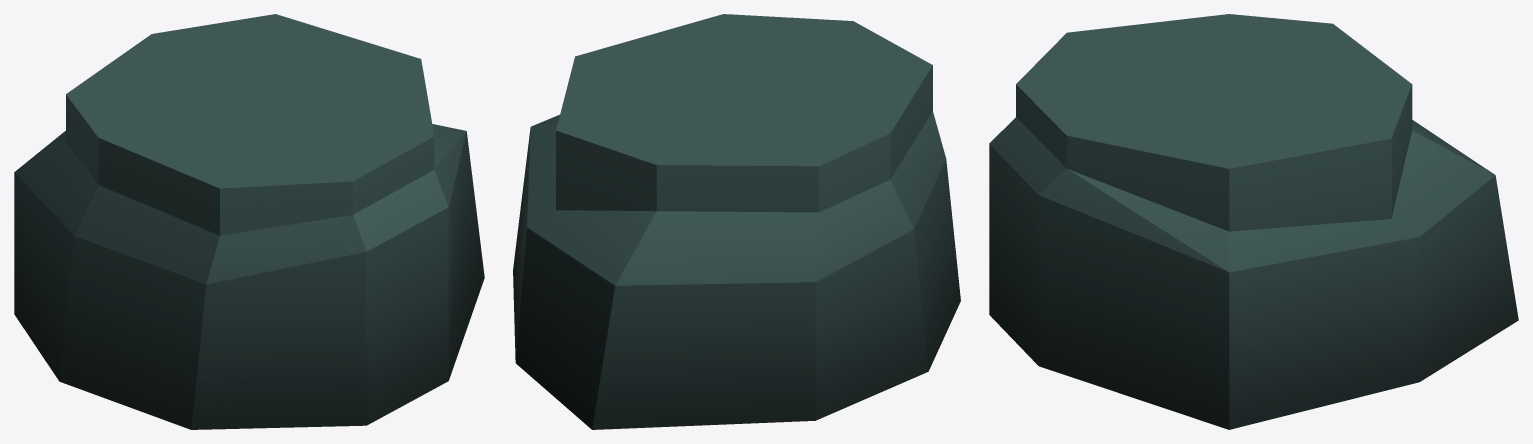
The model's file is SM_Stone_2_Flat_rock_2.fbx.
3 renders of one model, left to right at view 1: azimuth 30°, elevation 25°; view 2: azimuth 150°, elevation 25°; view 3: azimuth 270°, elevation 25°, orthographic. The views are drawn at different scales.
Parts seen in each view (by area): view 1: Stone_2:Flat_rock_2; view 2: Stone_2:Flat_rock_2; view 3: Stone_2:Flat_rock_2.
Boxes of the visible parts, x1,y1,x2,y2 form: Stone_2:Flat_rock_2: [14, 14, 484, 429]; Stone_2:Flat_rock_2: [513, 14, 960, 429]; Stone_2:Flat_rock_2: [989, 14, 1518, 429].
Bounding box in the file's own units: 422 × 222 × 463.
Materials: 1 (1 with a texture image).
